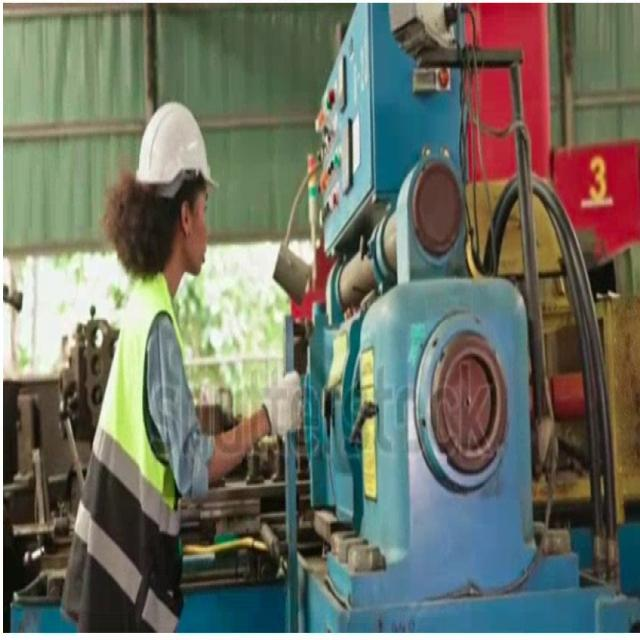gloved: (262, 368, 302, 438)
